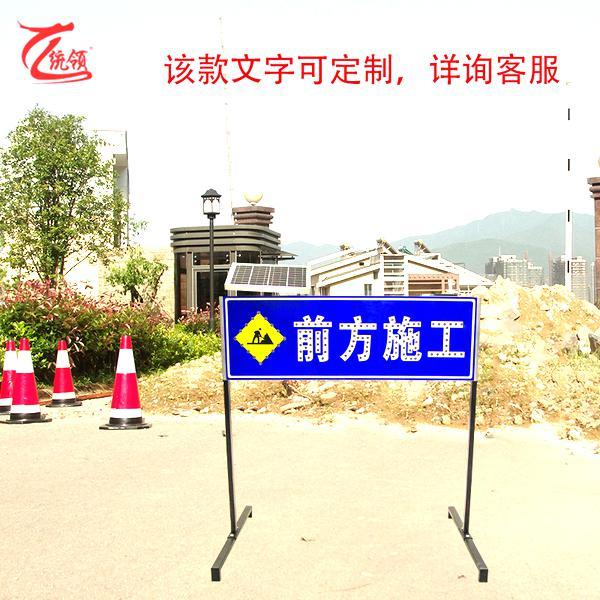sign: (223, 296, 476, 382)
